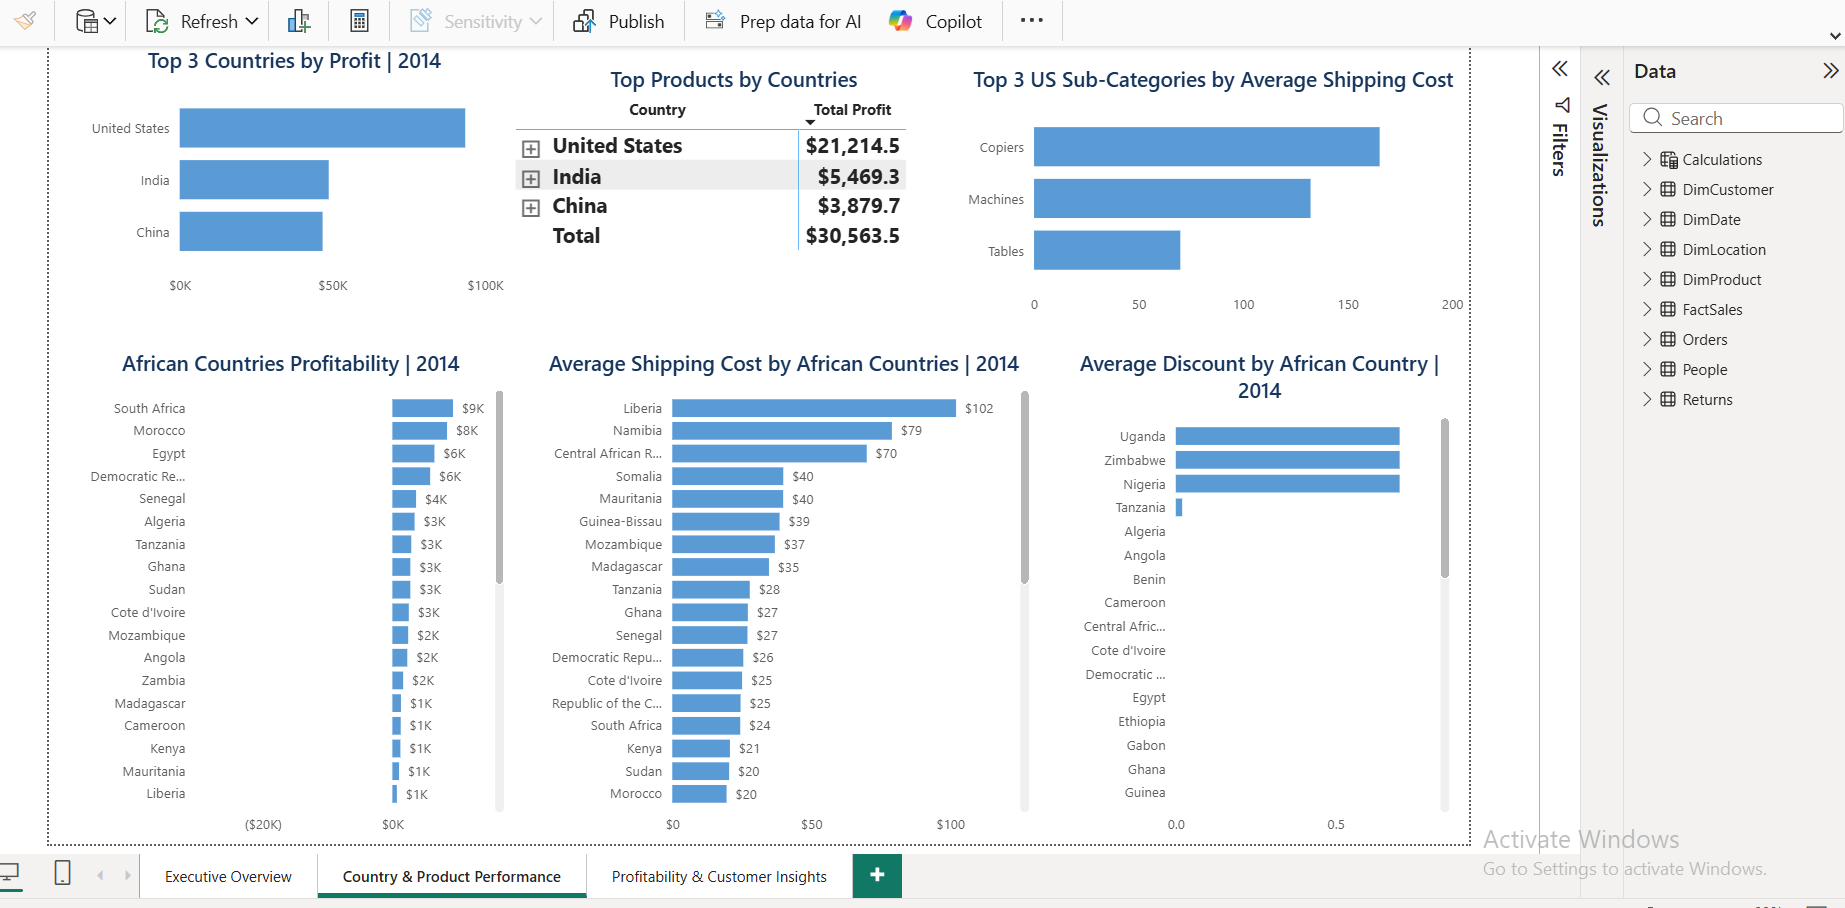

Layout of this report page (visuals, bound fields, positions):
{"tool":"powerbi","page":{"name":"Country & Product Performance","canvas":[1280,720],"ordinal":1},"visuals":[{"type":"clusteredBarChart","title":"Top 3 Countries by Profit | 2014","fields":{"Category":["DimLocation.Country"],"Y":["Calculations.Total Profit"]},"box":[27.4,0,388.3,234.6],"z":0},{"type":"pivotTable","title":"Top Products by Countries","fields":{"Rows":["DimLocation.Country","DimProduct.Product Name"],"Values":["Calculations.Total Profit"]},"box":[415.8,16.5,403.4,218.2],"z":1000},{"type":"clusteredBarChart","title":"Top 3 US Sub-Categories by Average Shipping Cost","fields":{"Category":["DimProduct.Sub-Category"],"Y":["Calculations.Average Shipping Cost"]},"box":[819.2,16.5,461.1,234.6],"z":2000},{"type":"clusteredBarChart","title":"African Countries Profitability | 2014","fields":{"Category":["DimLocation.Country"],"Y":["Calculations.Total Profit"]},"box":[20.6,273.1,395.2,447.3],"z":3000},{"type":"clusteredBarChart","title":"Average Shipping Cost by African Countries | 2014","fields":{"Category":["DimLocation.Country"],"Y":["Avg(FactSales.Shipping Cost)"]},"box":[436.4,273.1,452.8,447.3],"z":4000},{"type":"clusteredBarChart","title":"Average Discount by African Country | 2014","fields":{"Category":["DimLocation.Country"],"Y":["Avg(FactSales.Discount)"]},"box":[915.3,273.1,352.7,447.3],"z":5000}]}

Visuals, with their boxes on the page's 1280x720 design canvas (x1, y1, x2, y2). These are canvas units, not pixel positions in the 1845x908 screenshot, which may show the page scaled, cropped or inside an application window:
"Top 3 Countries by Profit | 2014" clusteredBarChart: box=[27, 0, 416, 235]
"Top Products by Countries" pivotTable: box=[416, 16, 819, 235]
"Top 3 US Sub-Categories by Average Shipping Cost" clusteredBarChart: box=[819, 16, 1280, 251]
"African Countries Profitability | 2014" clusteredBarChart: box=[21, 273, 416, 720]
"Average Shipping Cost by African Countries | 2014" clusteredBarChart: box=[436, 273, 889, 720]
"Average Discount by African Country | 2014" clusteredBarChart: box=[915, 273, 1268, 720]
